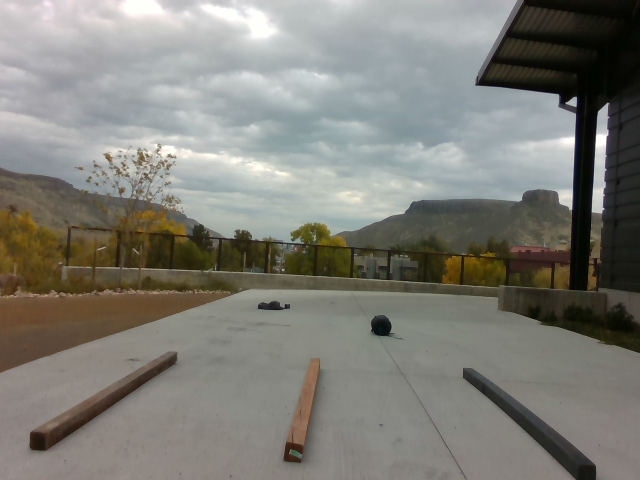dunnage: (27, 344, 603, 480)
